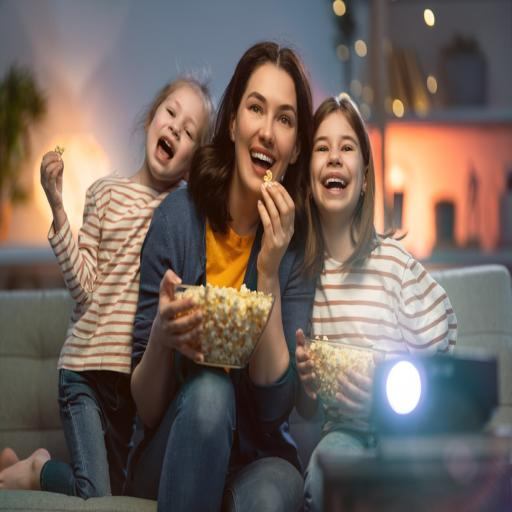face: (230, 64, 300, 196), (145, 85, 205, 188), (310, 112, 366, 222)
